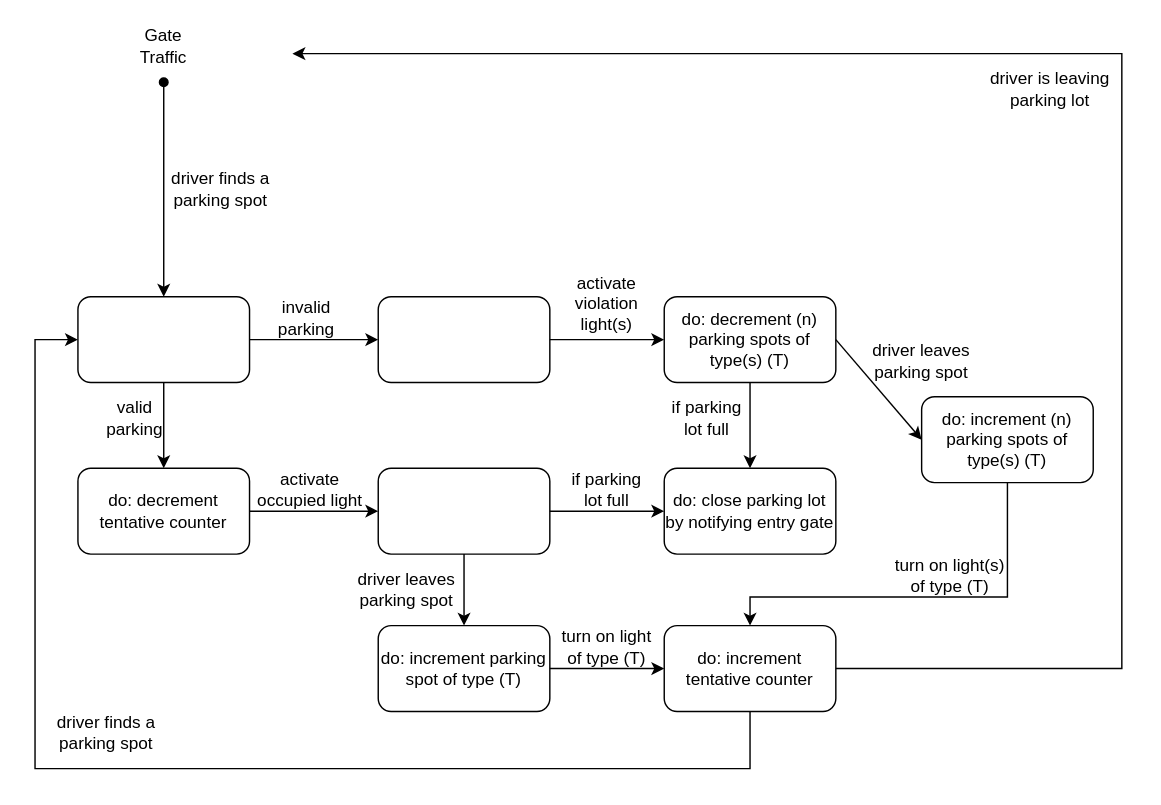
Some shapes in this 1161 by 805 pixel diagram are drawn without their labels. The centre of each missing label's shape, as x and y in pixels:
do: decrement parking spot of type (T): the point at 463,510
do: verify parking spot & identify state (S): the point at 163,339
do: violation notification: the point at 463,339
